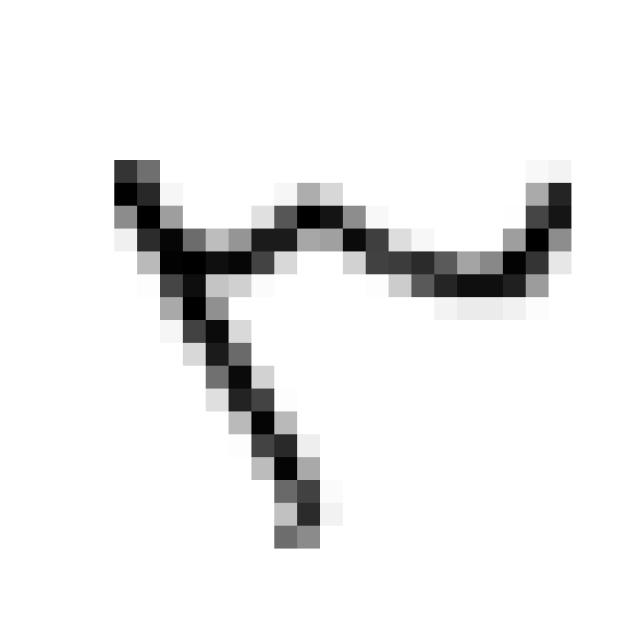3 -three-: (94, 132, 592, 568)
